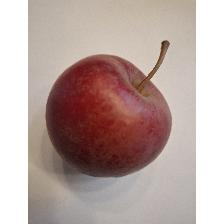Apfel: (44, 36, 178, 178)
